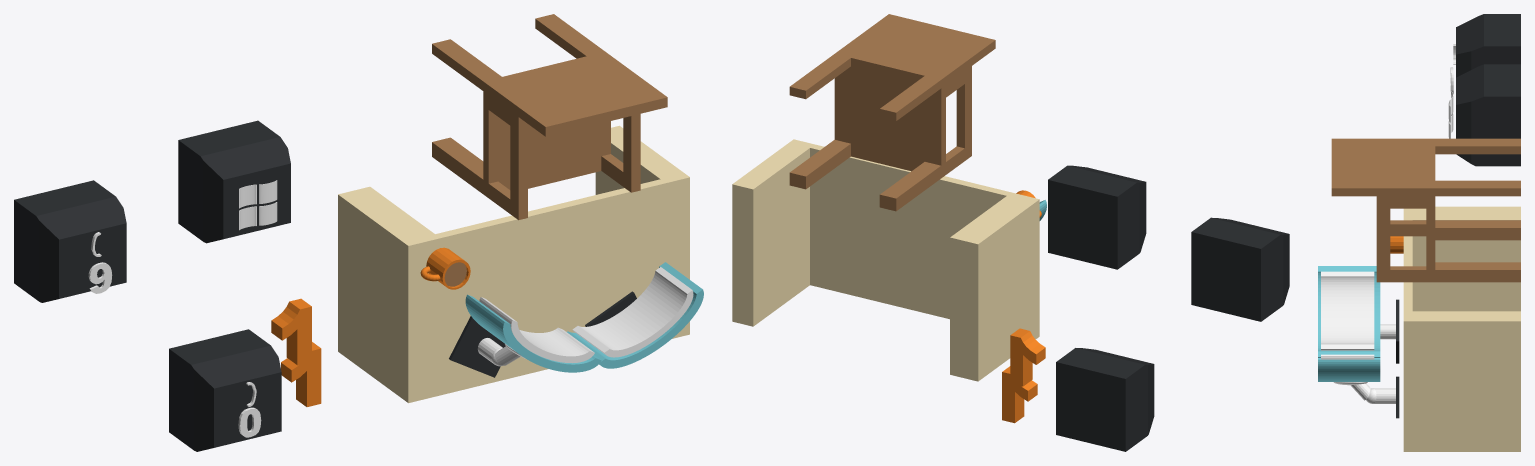
File: tinker.obj
The picture shows the model from 3 angles, left to right: view 1: azimuth 30°, elevation 25°; view 2: azimuth 150°, elevation 25°; view 3: azimuth 270°, elevation 25°; orthographic projection. The views are drawn at different scales.
Visible parts, largest first — view 1: group_0_16311991, group_0_2829873, group_0_11107152, group_0_16448250, group_0_16089887, group_0_7720667; view 2: group_0_16311991, group_0_2829873, group_0_11107152, group_0_16089887; view 3: group_0_16311991, group_0_11107152, group_0_2829873, group_0_16448250, group_0_7720667, group_0_16089887.
Part boxes in pixels (box(x1,y1,x2,y2)): group_0_16311991: box(338, 125, 689, 403); group_0_2829873: box(14, 120, 636, 451); group_0_11107152: box(432, 14, 667, 286); group_0_16448250: box(88, 180, 693, 437); group_0_16089887: box(271, 247, 470, 406); group_0_7720667: box(465, 262, 703, 372); group_0_16311991: box(732, 139, 1039, 381); group_0_2829873: box(1048, 165, 1289, 451); group_0_11107152: box(789, 14, 995, 211); group_0_16089887: box(1002, 190, 1045, 423); group_0_16311991: box(1403, 206, 1520, 451); group_0_11107152: box(1331, 138, 1520, 282); group_0_2829873: box(1396, 14, 1520, 418); group_0_16448250: box(1321, 44, 1455, 403); group_0_7720667: box(1318, 266, 1380, 381); group_0_16089887: box(1390, 236, 1403, 253).
Size of the model in its own units: 129 by 66 by 45.
